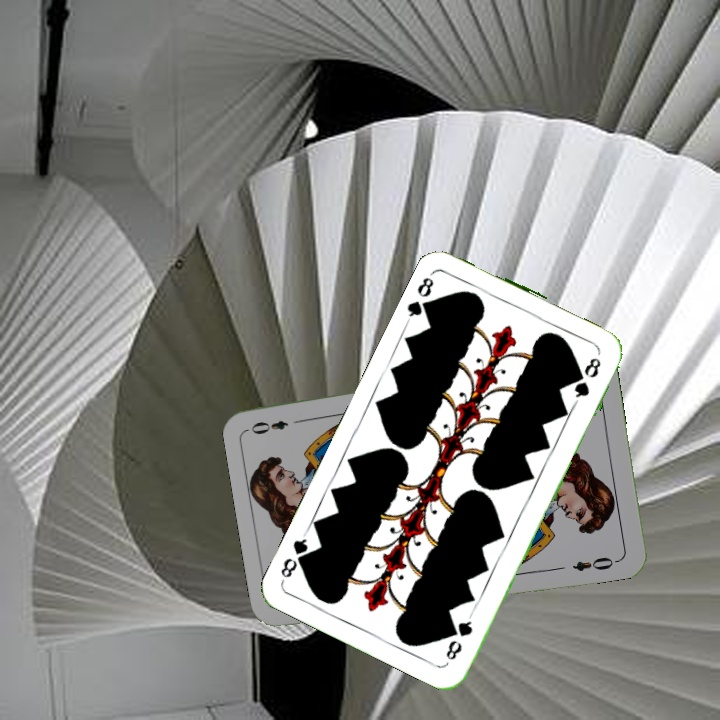G8: (441, 610, 476, 663), (403, 267, 438, 320)
